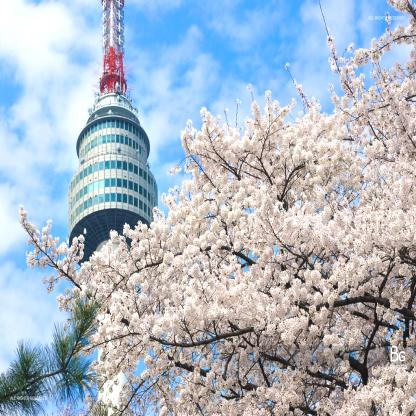Someiyoshino: (9, 3, 415, 415)
